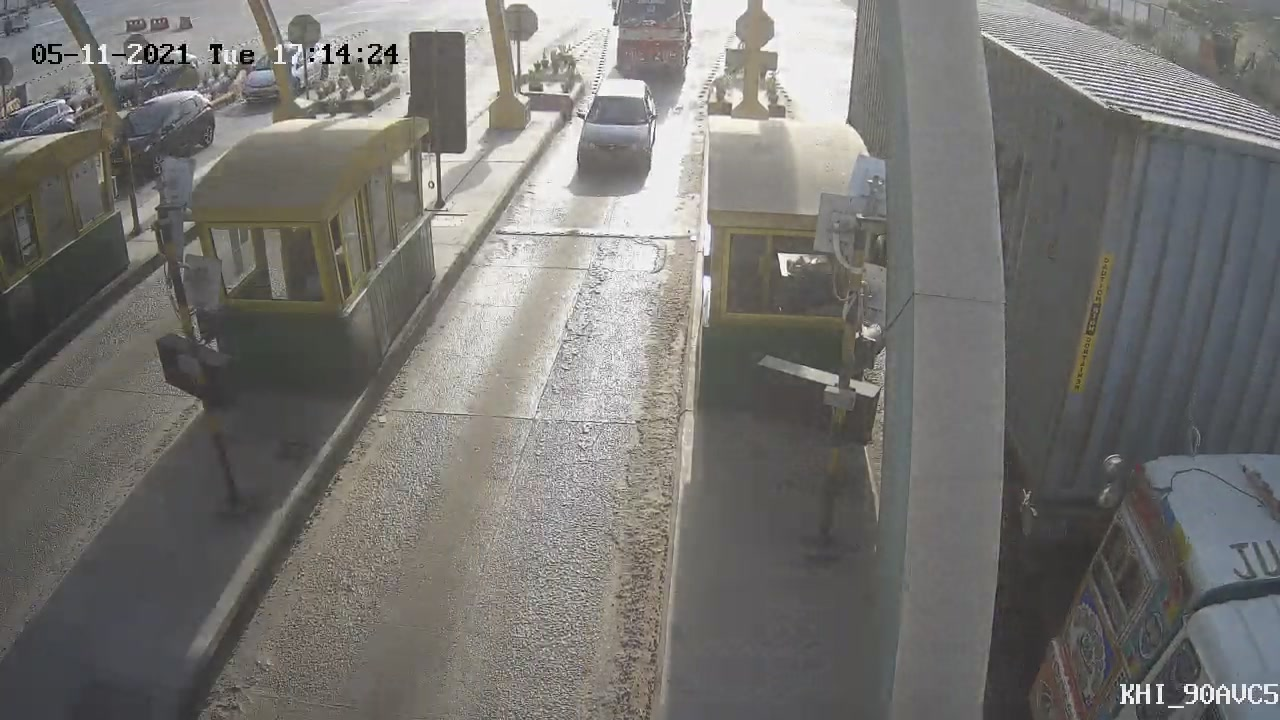F1: (557, 66, 672, 196)
